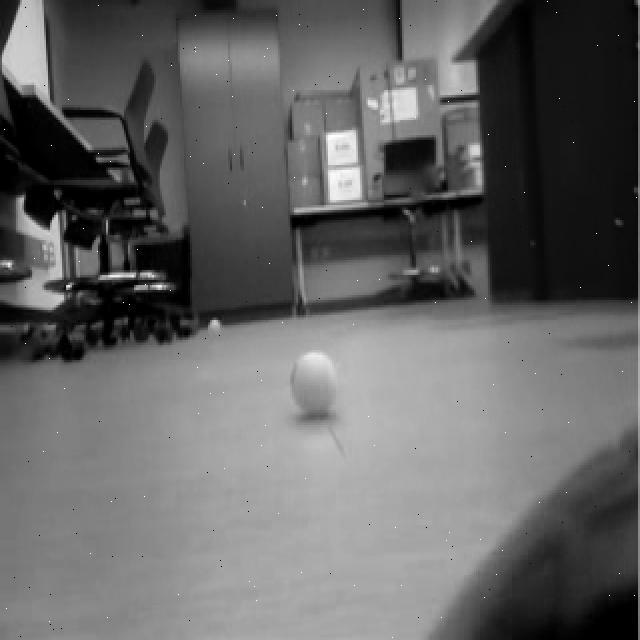ping-pong-ball: (288, 346, 340, 414), (208, 313, 226, 338)
